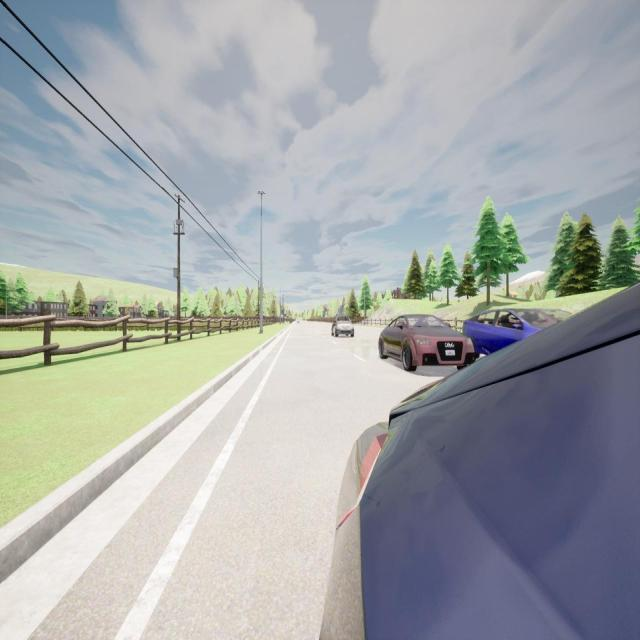Vehicle: (320, 283, 640, 638), (379, 314, 474, 372), (462, 308, 572, 354), (331, 315, 355, 338), (296, 319, 301, 324)
